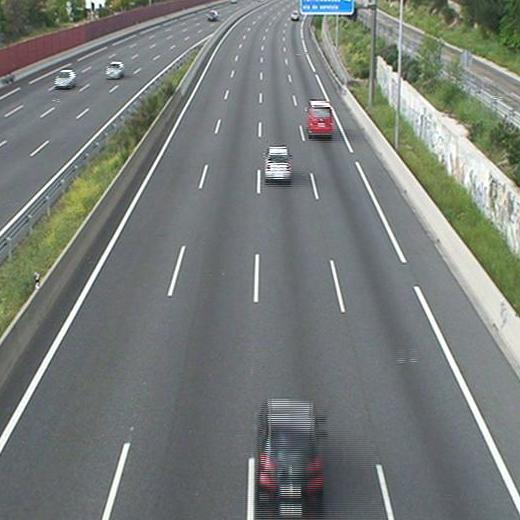car: (258, 403, 322, 500), (264, 148, 290, 179), (290, 11, 300, 21)
van: (307, 101, 333, 135)
